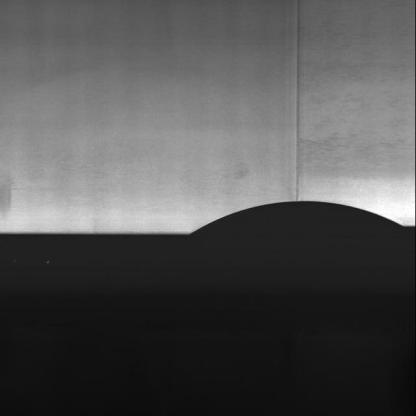crescent_gap: (180, 194, 415, 253)
welding_line: (279, 0, 307, 206)
